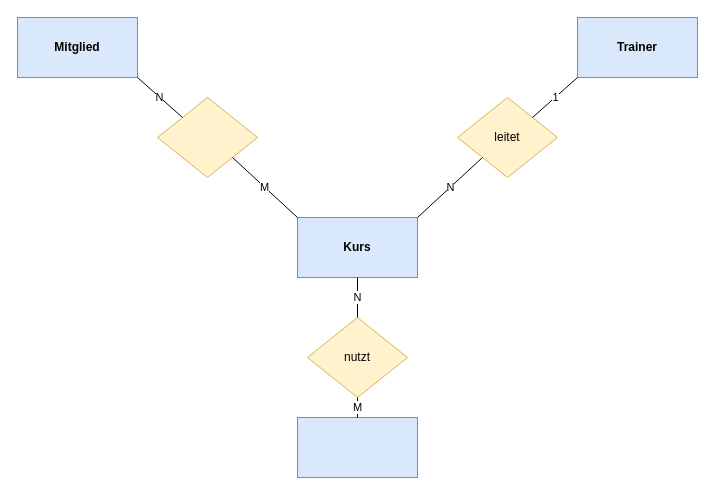
Some shapes in this 715 by 495 pixel diagram are drawn without their labels. Each missing label, with the centre of its shape:
"besucht" goes at point (207, 137).
"Gerät" goes at point (357, 447).
